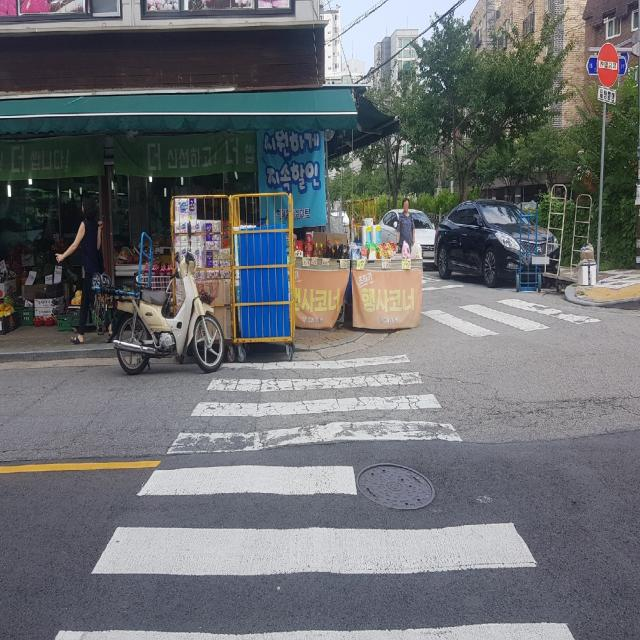횡단보도: (49, 346, 579, 640), (422, 272, 607, 338)
